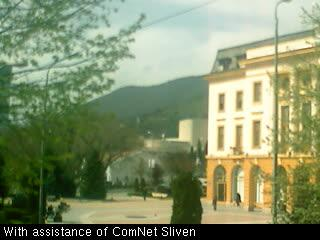person: (211, 196, 218, 211), (235, 193, 241, 208), (142, 188, 147, 201)
